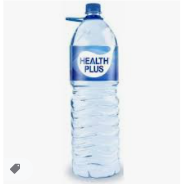Bottle: (69, 3, 125, 181)
